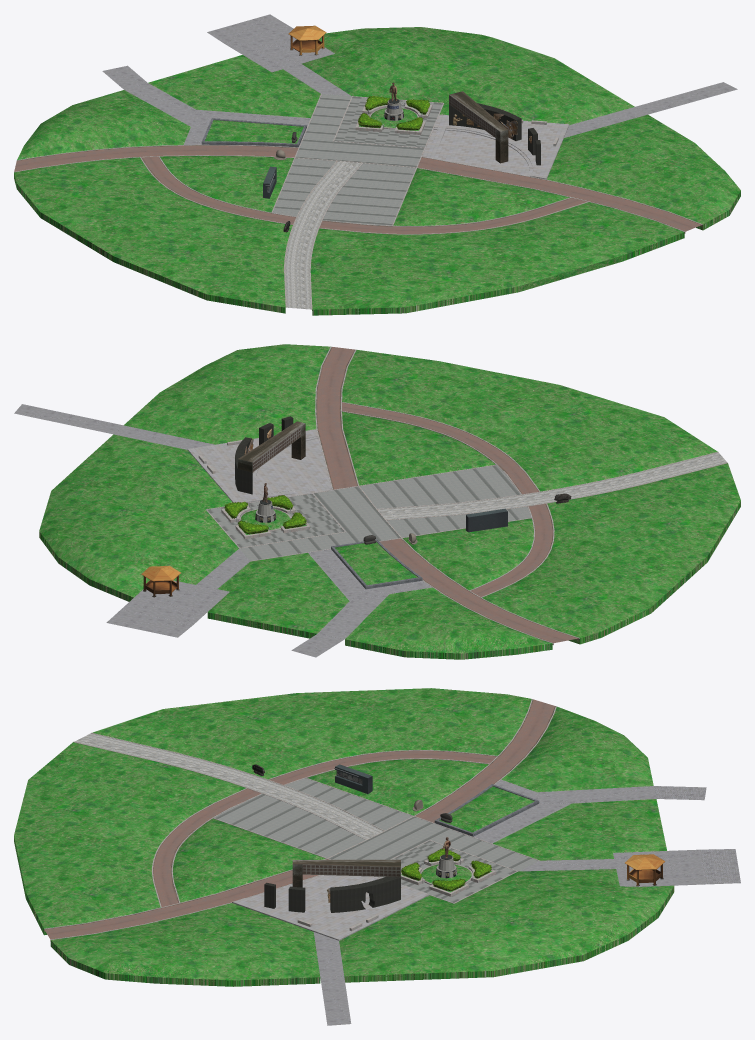
The picture shows the model from 3 angles, top to bottom: view 1: azimuth 30°, elevation 25°; view 2: azimuth 150°, elevation 25°; view 3: azimuth 270°, elevation 25°; orthographic projection. The views are drawn at different scales.
Parts seen in each view (by area): view 1: PK_grass_010, PK_grass_009, PK_grass_003, PK_grass_004, PK_block05, PK_tile_005, PK_grass_001, PK_grass_002, PK_grass_008, PK_tile_002, PK_tile_006, PK_grass_007 (+10 smaller); view 2: PK_grass_009, PK_grass_010, PK_grass_003, PK_grass_004, PK_block05, PK_tile_005, PK_grass_001, PK_grass_002, PK_grass_008, PK_tile_002, PK_grass_007, PK_tile_006 (+12 smaller); view 3: PK_grass_010, PK_grass_003, PK_grass_009, PK_grass_004, PK_block05, PK_tile_005, PK_grass_001, PK_grass_002, PK_grass_008, PK_tile_002, PK_grass_007, PK_tile_006 (+11 smaller).
Boxes of the visible parts, x1,y1,x2,y2 form: PK_grass_010: (310, 202, 684, 315); PK_grass_009: (14, 157, 292, 313); PK_grass_003: (301, 27, 634, 124); PK_grass_004: (547, 114, 740, 230); PK_block05: (14, 145, 702, 233); PK_tile_005: (102, 14, 737, 144); PK_grass_001: (17, 90, 190, 159); PK_grass_002: (148, 55, 320, 118); PK_grass_008: (393, 168, 569, 225); PK_tile_002: (272, 158, 415, 225); PK_tile_006: (422, 114, 569, 179); PK_grass_007: (160, 155, 293, 212); PK_grass_009: (482, 463, 740, 644); PK_grass_010: (342, 350, 717, 491); PK_grass_003: (39, 434, 238, 601); PK_grass_004: (124, 344, 330, 444); PK_block05: (316, 347, 578, 644); PK_tile_005: (14, 404, 432, 657); PK_grass_001: (345, 587, 552, 659); PK_grass_002: (207, 553, 349, 638); PK_grass_008: (342, 411, 495, 485); PK_tile_002: (360, 465, 531, 537); PK_grass_007: (403, 518, 533, 590); PK_tile_006: (187, 429, 331, 502); PK_grass_010: (14, 742, 245, 935); PK_grass_003: (339, 869, 674, 982); PK_grass_009: (92, 688, 531, 779); PK_grass_004: (50, 903, 320, 986); PK_block05: (44, 699, 555, 941); PK_tile_005: (313, 779, 740, 1025); PK_grass_001: (501, 706, 653, 792); PK_grass_002: (493, 799, 666, 860); PK_grass_008: (173, 818, 325, 902); PK_tile_002: (214, 778, 412, 857); PK_grass_007: (307, 759, 488, 815); PK_tile_006: (232, 875, 429, 940).
Size of the model in its own units: 11326 by 700 by 10304.
22 materials, 22 textured.
